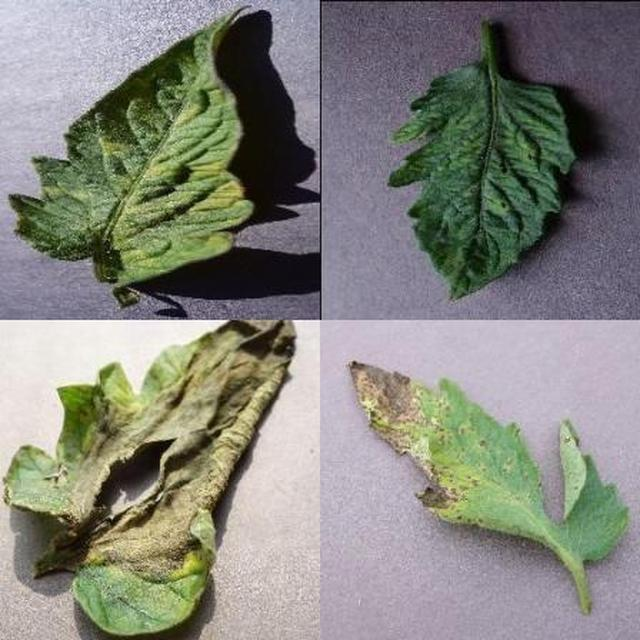Leaf Mold: (190, 205, 640, 640)
